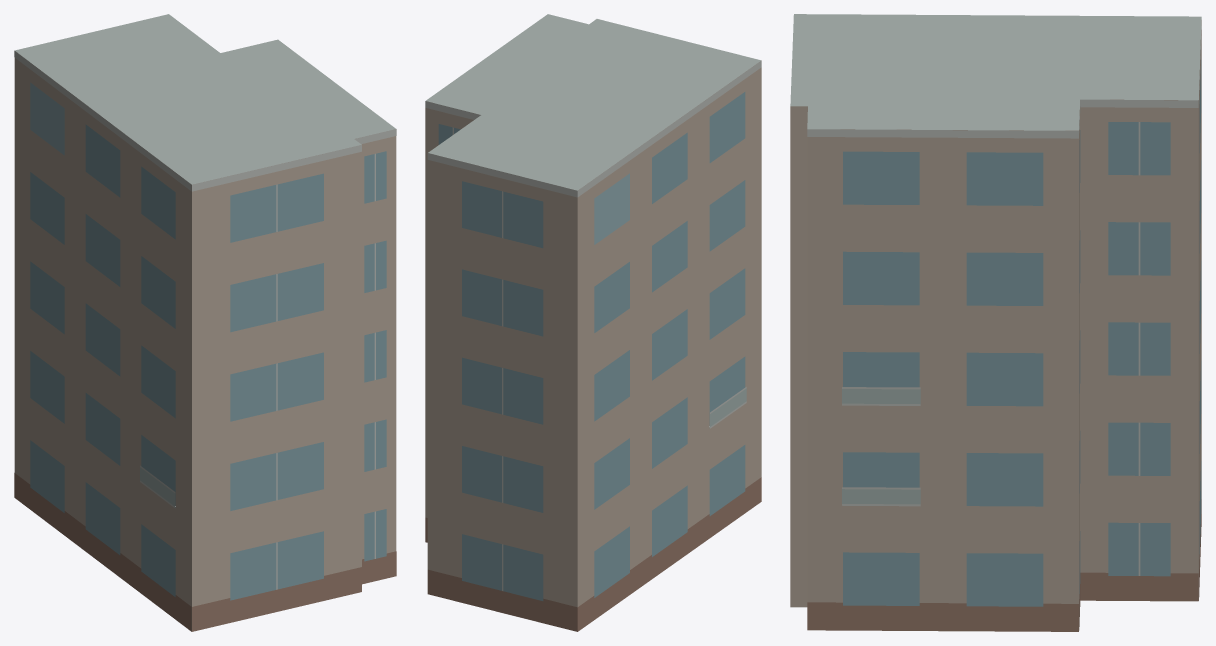
Rendered from survey-upis-32857465.glb.
3 views of the same model, side by side, from view 1: azimuth 30°, elevation 25°; view 2: azimuth 150°, elevation 25°; view 3: azimuth 270°, elevation 25° (orthographic). The views are drawn at different scales.
Visible parts, largest first — view 1: survey-upis-32857465.tmp; view 2: survey-upis-32857465.tmp; view 3: survey-upis-32857465.tmp.
Boxes of the visible parts, x1,y1,x2,y2 form: survey-upis-32857465.tmp: (14, 14, 396, 631); survey-upis-32857465.tmp: (425, 14, 761, 631); survey-upis-32857465.tmp: (790, 14, 1201, 631).
Size of the model in its own units: 7.9 by 15.75 by 11.73.
